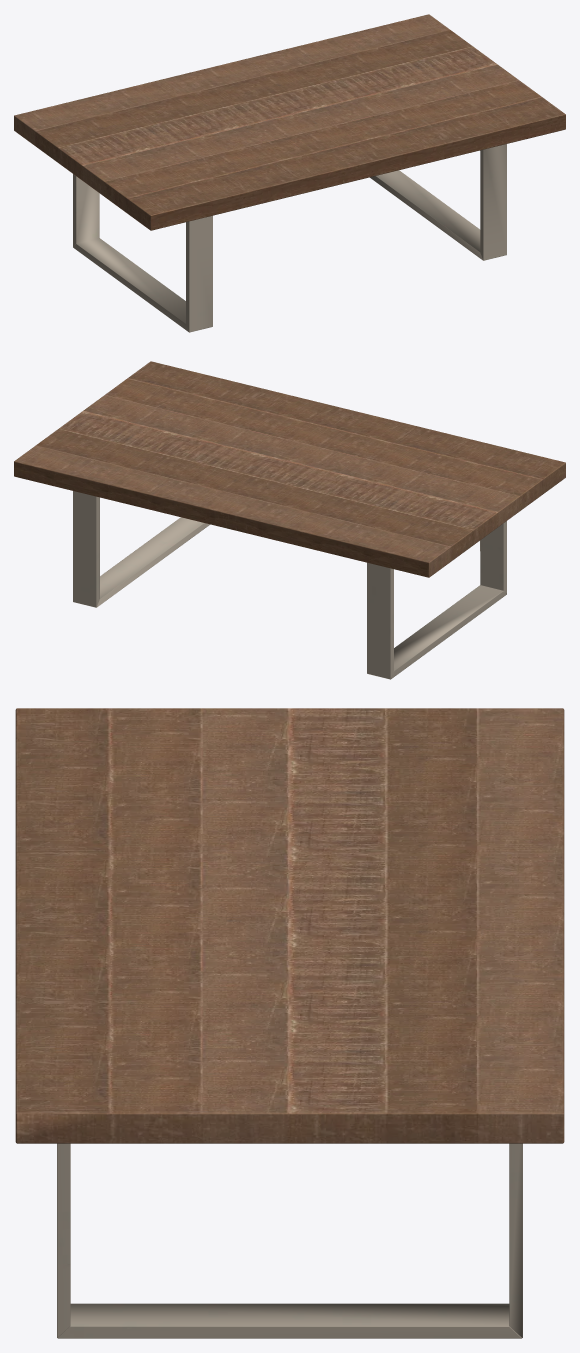
The model's file is coffee_table_abo_B075Z85K2F.glb.
3 renders of one model, top to bottom at view 1: azimuth 30°, elevation 25°; view 2: azimuth 150°, elevation 25°; view 3: azimuth 270°, elevation 25°, orthographic. The views are drawn at different scales.
Visible parts, largest first — view 1: RootNode; view 2: RootNode; view 3: RootNode.
Part boxes in pixels (<box>): RootNode: <box>14,14,565,332</box>; RootNode: <box>14,361,565,679</box>; RootNode: <box>15,708,564,1338</box>.
Size of the model in its own units: 1.4 by 0.44 by 0.8001.
1 material, 1 textured.
